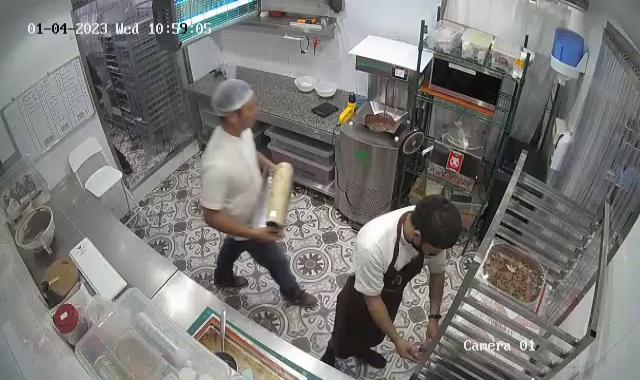hairnet: (210, 78, 254, 118)
no_hairnet: (409, 194, 462, 252)
